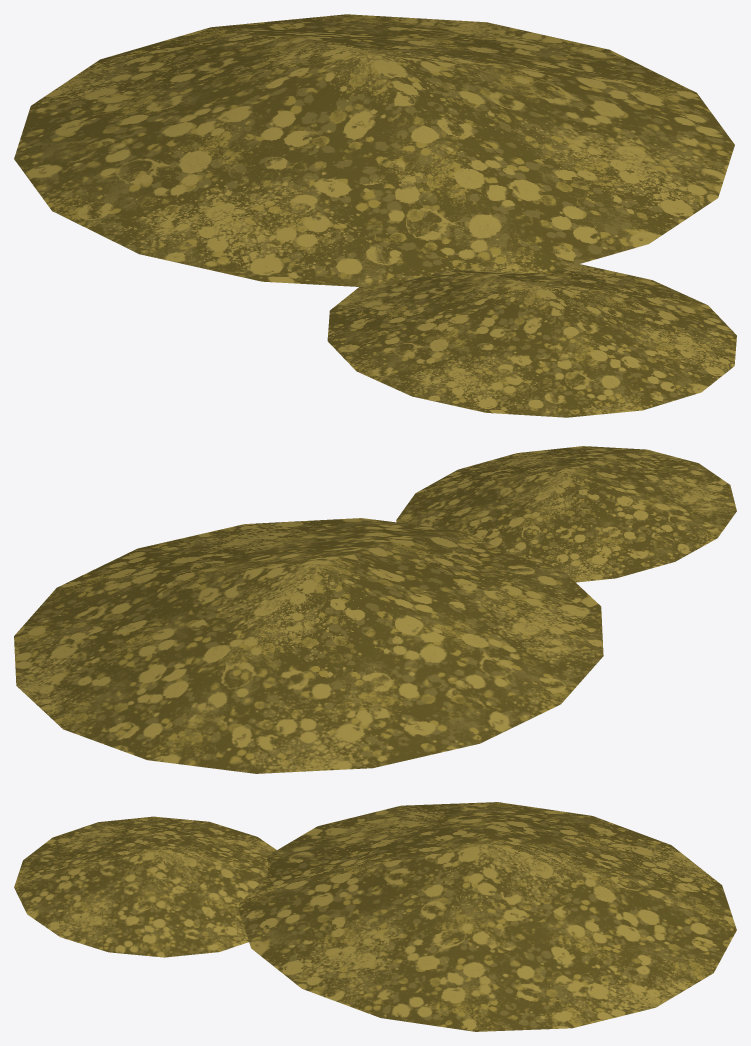
The model's file is GMTK2024_DragonKeep_SinglePiece_CoinPile.fbx.
3 views of the same model, one above another, from view 1: azimuth 30°, elevation 25°; view 2: azimuth 150°, elevation 25°; view 3: azimuth 270°, elevation 25° (orthographic). The views are drawn at different scales.
Visible parts, largest first — view 1: teeawdaw084; view 2: teeawdaw084; view 3: teeawdaw084.
Boxes of the visible parts, x1=… form: teeawdaw084: x1=14, y1=14, x2=736, y2=417; teeawdaw084: x1=14, y1=446, x2=736, y2=773; teeawdaw084: x1=14, y1=802, x2=736, y2=1031.
Size of the model in its own units: 31.61 by 5.56 by 45.24.
